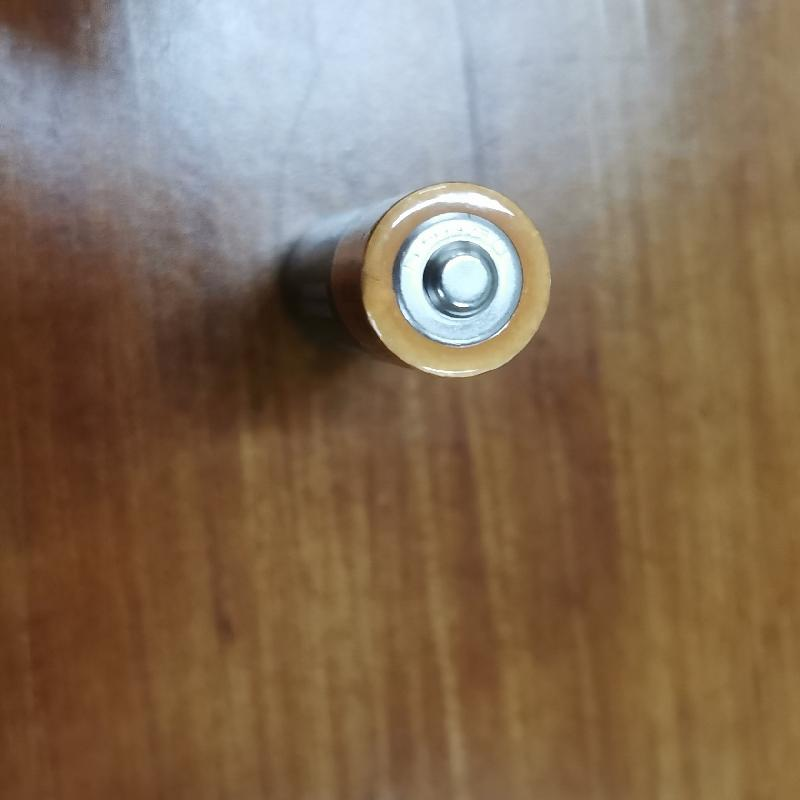battery: (281, 180, 561, 387)
